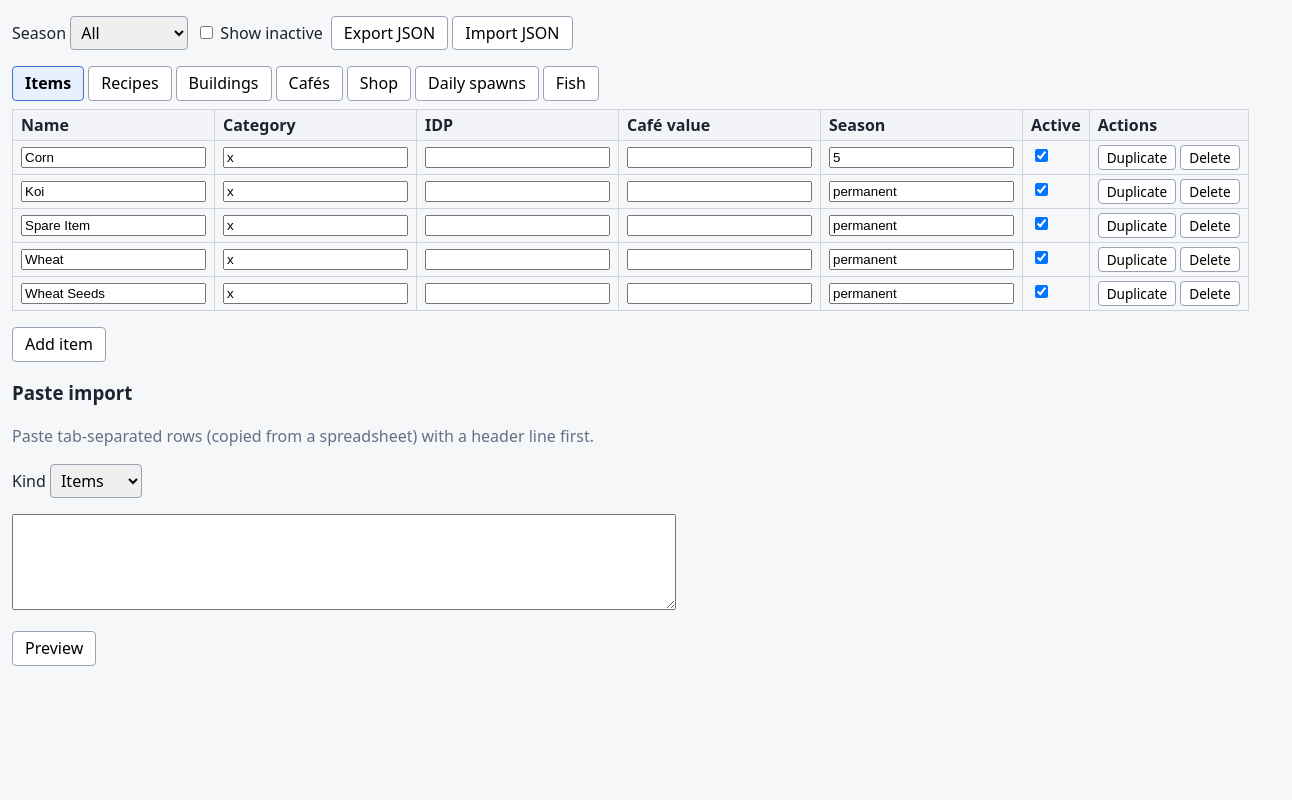
DataTab › Fish tab lists items with fishing info, read-only
Click the tab "Fish" at (571, 84), box [543,66,599,101]
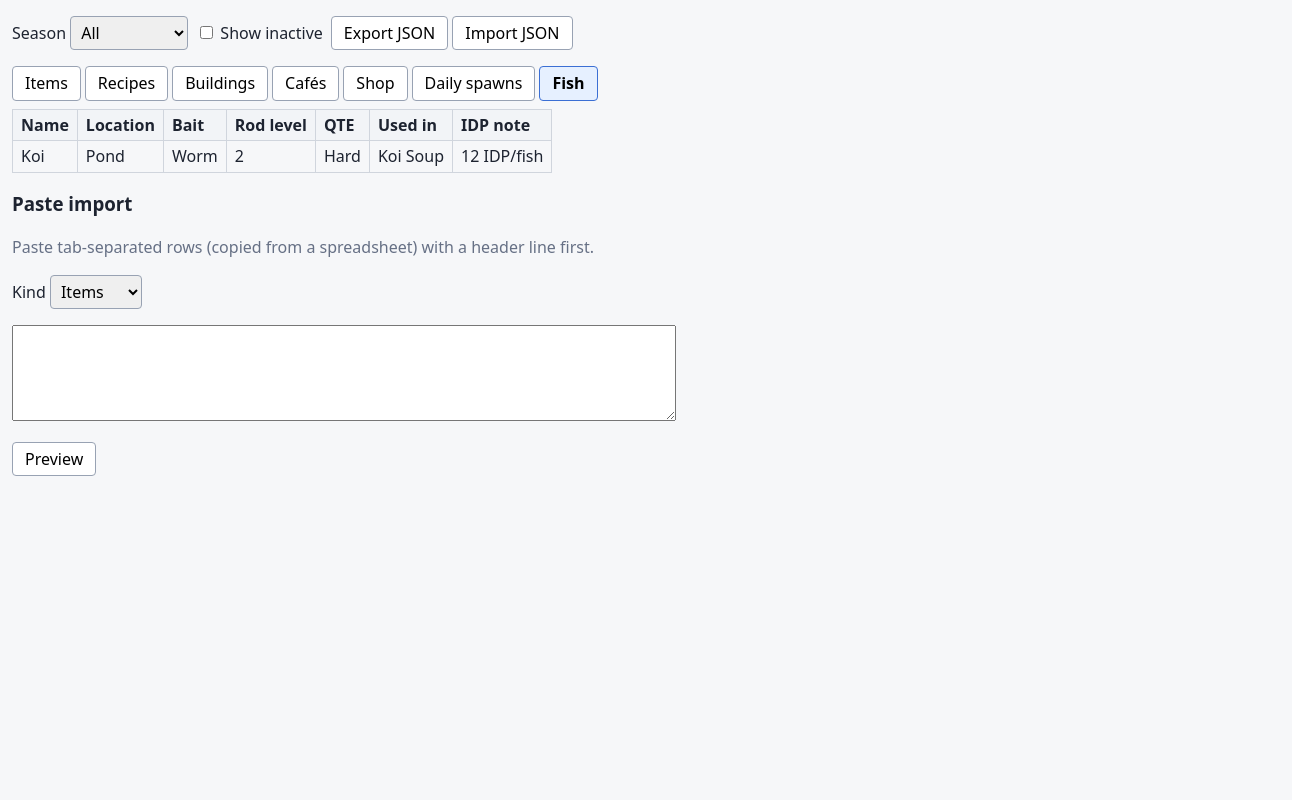
Now the field is gone
